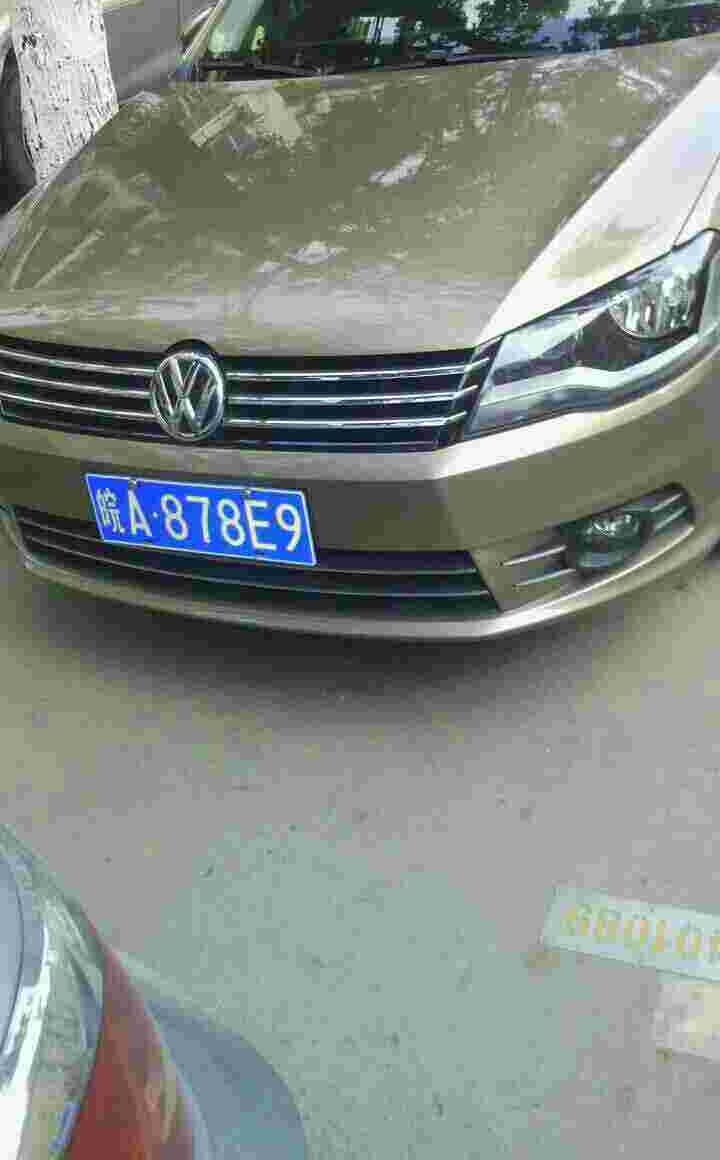license_plate: (95, 479, 316, 569)
